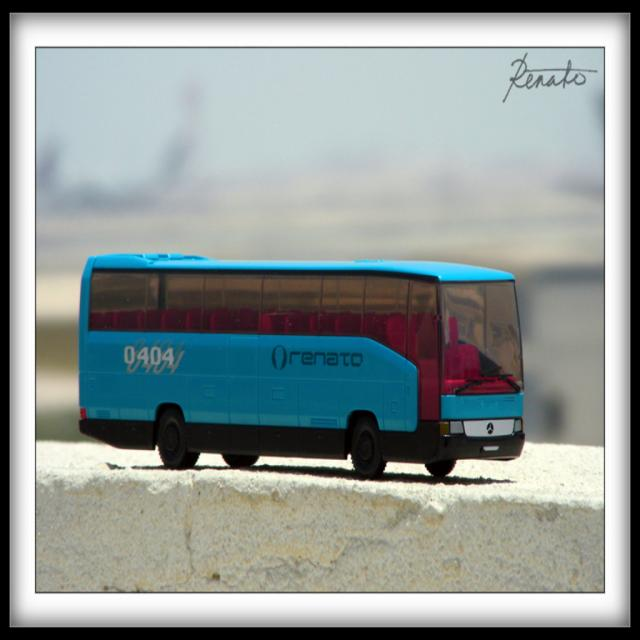Buses: (76, 252, 524, 480)
